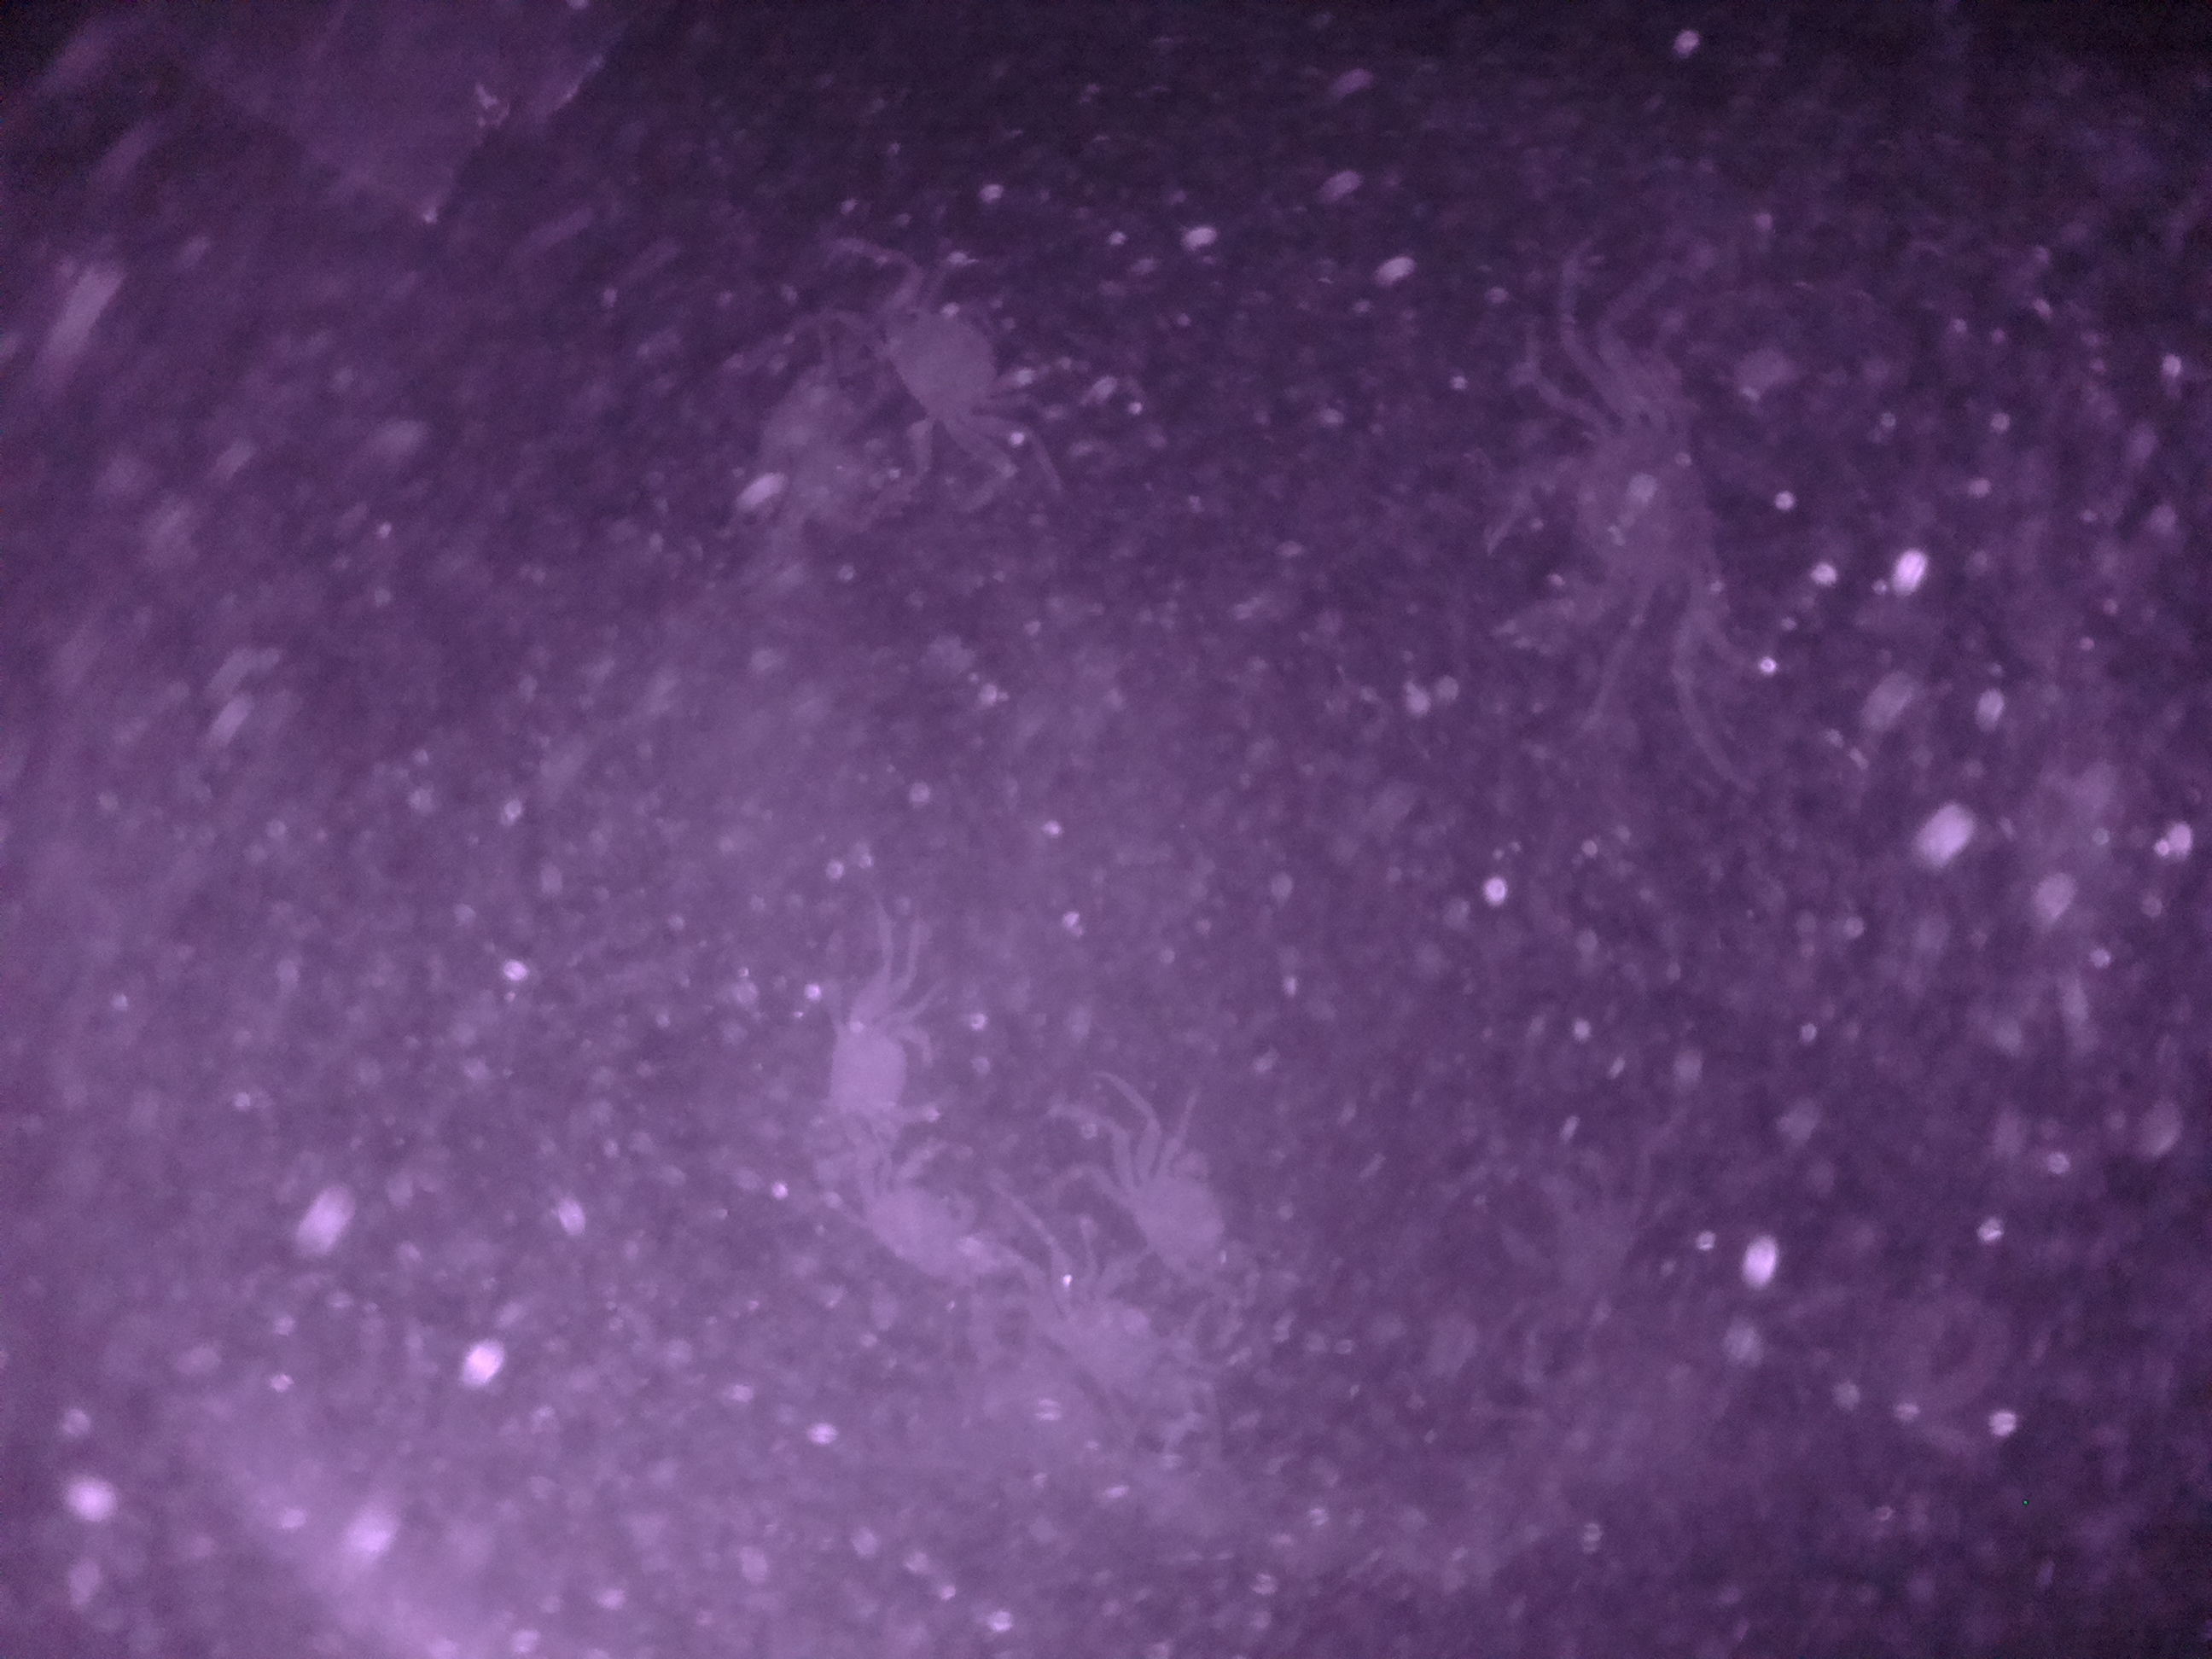Crab: (1076, 1077, 1278, 1328), (840, 247, 1047, 490), (819, 962, 953, 1166)
